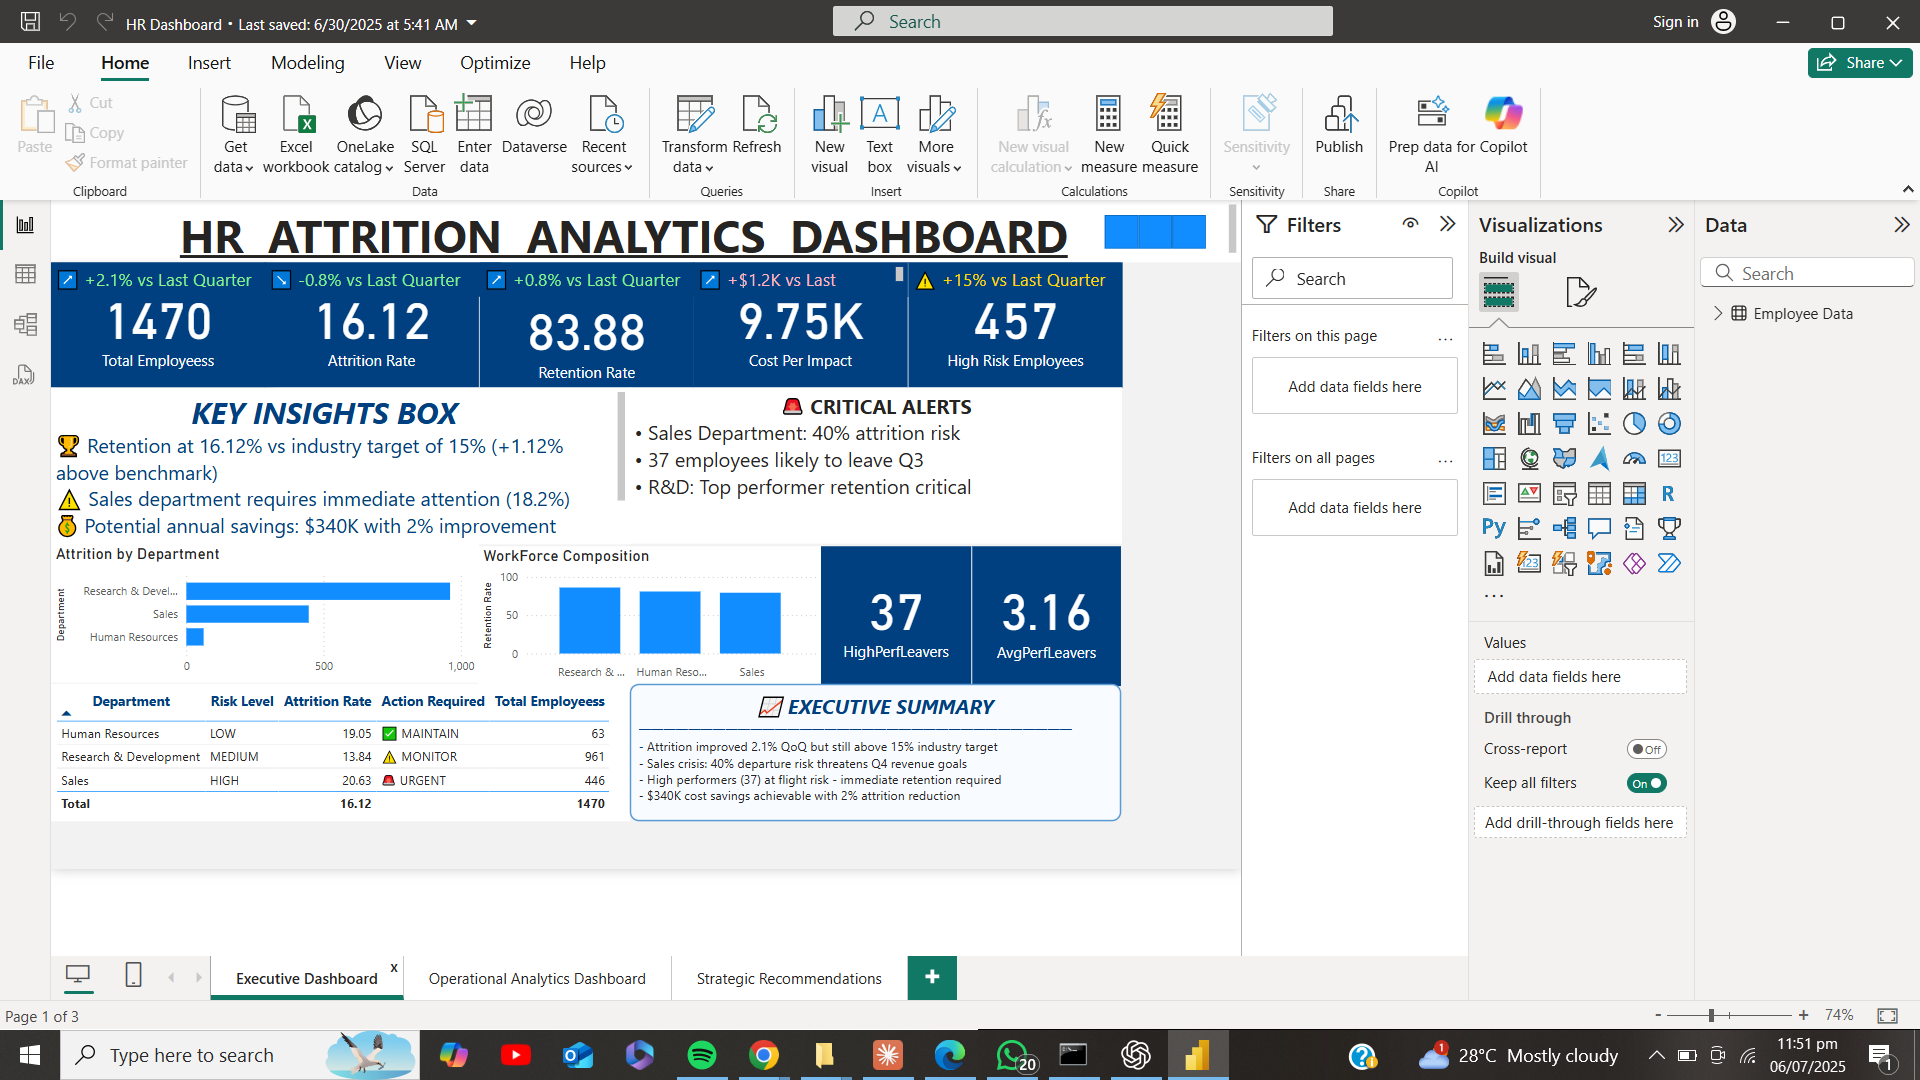

The dashboard page shown, as its layout file describes it:
{"tool":"powerbi","page":{"name":"Executive Dashboard","canvas":[1280,720],"ordinal":0},"visuals":[{"type":"textbox","box":[0,0,1280.3,67.2],"z":0},{"type":"card","fields":{"Values":["Employee Data.Total Employeess"]},"box":[0,67.2,230.5,134.5],"z":1000},{"type":"card","fields":{"Values":["Employee Data.Attrition Rate"]},"box":[230.5,67.2,230,134.5],"z":2000},{"type":"card","fields":{"Values":["Employee Data.Retention Rate"]},"box":[461.1,67.2,230.5,134.5],"z":3000},{"type":"card","fields":{"Values":["Employee Data.Cost Per Impact"]},"box":[691.6,67.2,230.5,134.5],"z":4000},{"type":"card","fields":{"Values":["Employee Data.High Risk Employees"]},"box":[922.1,67.2,230.5,134.5],"z":5000},{"type":"textbox","box":[0,201.7,623,168.8],"z":6000},{"type":"barChart","title":"Attrition by Department","fields":{"Category":["Employee Data.Department"],"Y":["CountNonNull(Employee Data.Attrition)"]},"box":[0,370.5,461.1,149.6],"z":7000},{"type":"clusteredColumnChart","title":"WorkForce Composition","fields":{"Category":["Employee Data.Department"],"Y":["Employee Data.Retention Rate"]},"box":[459.9,372.5,368.5,150.6],"z":8000},{"type":"card","fields":{"Values":["Employee Data.HighPerfLeavers"]},"box":[828.8,371.9,161.9,149.6],"z":9000},{"type":"card","fields":{"Values":["Employee Data.AvgPerfLeavers"]},"box":[991.1,372.5,160,150.6],"z":10000},{"type":"textbox","box":[0,67.2,230.5,37],"z":11000},{"type":"textbox","box":[230.5,67.2,253.9,37],"z":12000},{"type":"textbox","box":[922.1,67.2,229.2,37],"z":13000},{"type":"textbox","box":[622.7,201.7,529.9,168.1],"z":14000},{"type":"tableEx","fields":{"Values":["Employee Data.Department","Employee Data.Risk Level","Employee Data.Attrition Rate","Employee Data.Action Required","Employee Data.Total Employeess"]},"box":[0,520.1,623,148.2],"z":15000},{"type":"textbox","box":[461.1,67.2,230.5,37],"z":16000},{"type":"textbox","box":[691.6,67.2,230.5,37],"z":17000},{"type":"textbox","box":[622.7,520.4,528.5,147.9],"z":18000},{"type":"shape","box":[1133.7,16.1,36.3,36.3],"z":19000},{"type":"shape","box":[1170,16.1,36.3,36.3],"z":20000},{"type":"shape","box":[1206.3,16.1,36.3,36.3],"z":21000}]}

Visuals, with their boxes on the page's 1280x720 design canvas (x1, y1, x2, y2). These are canvas units, not pixel positions in the 1920x1080 screenshot, which may show the page scaled, cropped or inside an application window:
textbox: 0:0:1280:67
card - Employee Data.Total Employeess: 0:67:230:202
card - Employee Data.Attrition Rate: 230:67:460:202
card - Employee Data.Retention Rate: 461:67:692:202
card - Employee Data.Cost Per Impact: 692:67:922:202
card - Employee Data.High Risk Employees: 922:67:1153:202
textbox: 0:202:623:370
"Attrition by Department" barChart: 0:370:461:520
"WorkForce Composition" clusteredColumnChart: 460:372:828:523
card - Employee Data.HighPerfLeavers: 829:372:991:522
card - Employee Data.AvgPerfLeavers: 991:372:1151:523
textbox: 0:67:230:104
textbox: 230:67:484:104
textbox: 922:67:1151:104
textbox: 623:202:1153:370
tableEx - Employee Data.Department x Employee Data.Risk Level: 0:520:623:668
textbox: 461:67:692:104
textbox: 692:67:922:104
textbox: 623:520:1151:668
shape: 1134:16:1170:52
shape: 1170:16:1206:52
shape: 1206:16:1243:52
